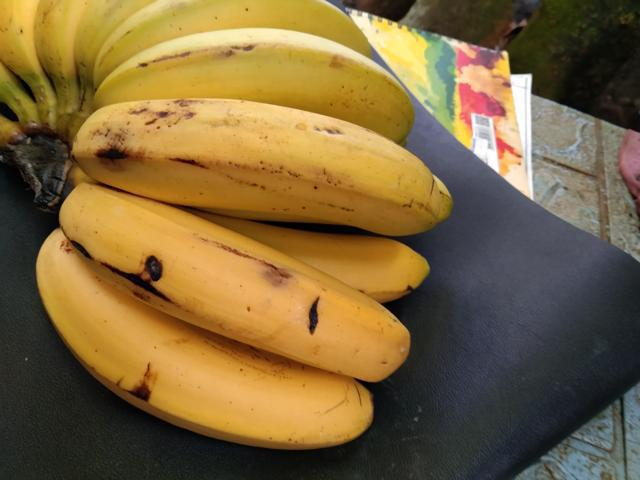freshripe: (52, 174, 416, 380), (30, 249, 365, 455), (73, 87, 438, 222)
